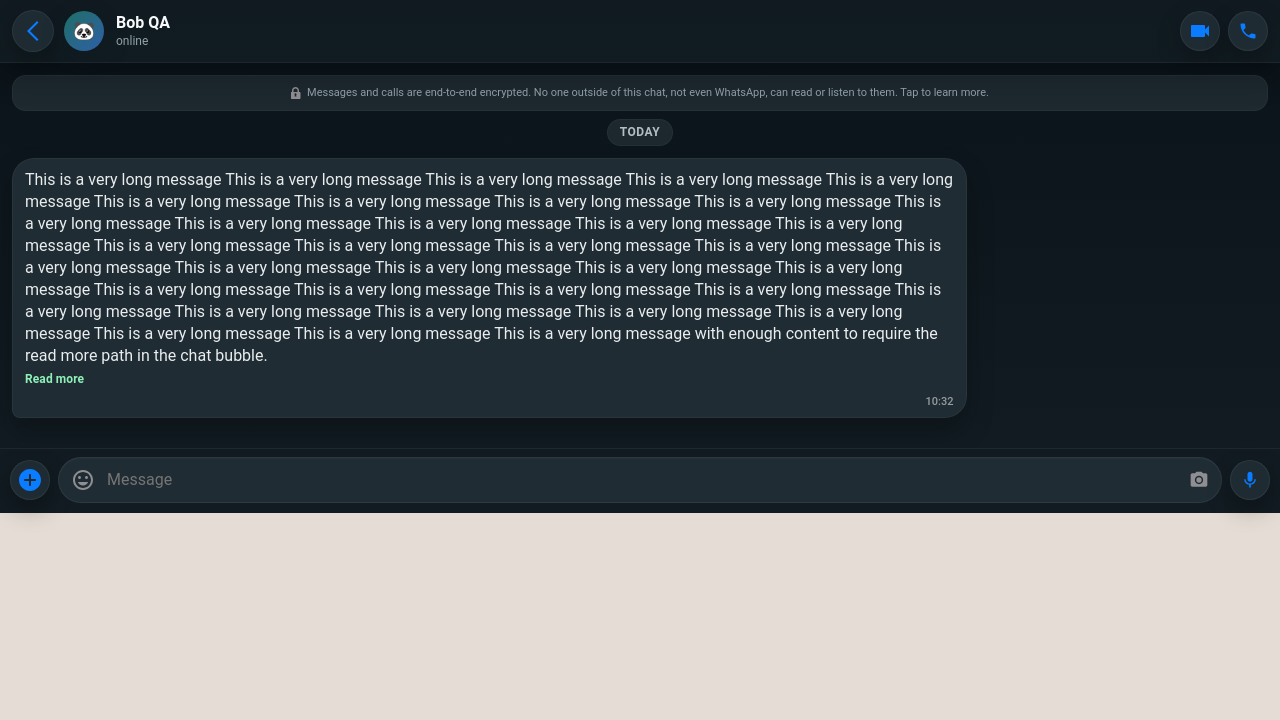
Scenario: ChatScreen › collapses long message bodies and expands them on demand
Click the button with test id "message-read-more-long-message-1": point(55, 379) [25,371,84,388]
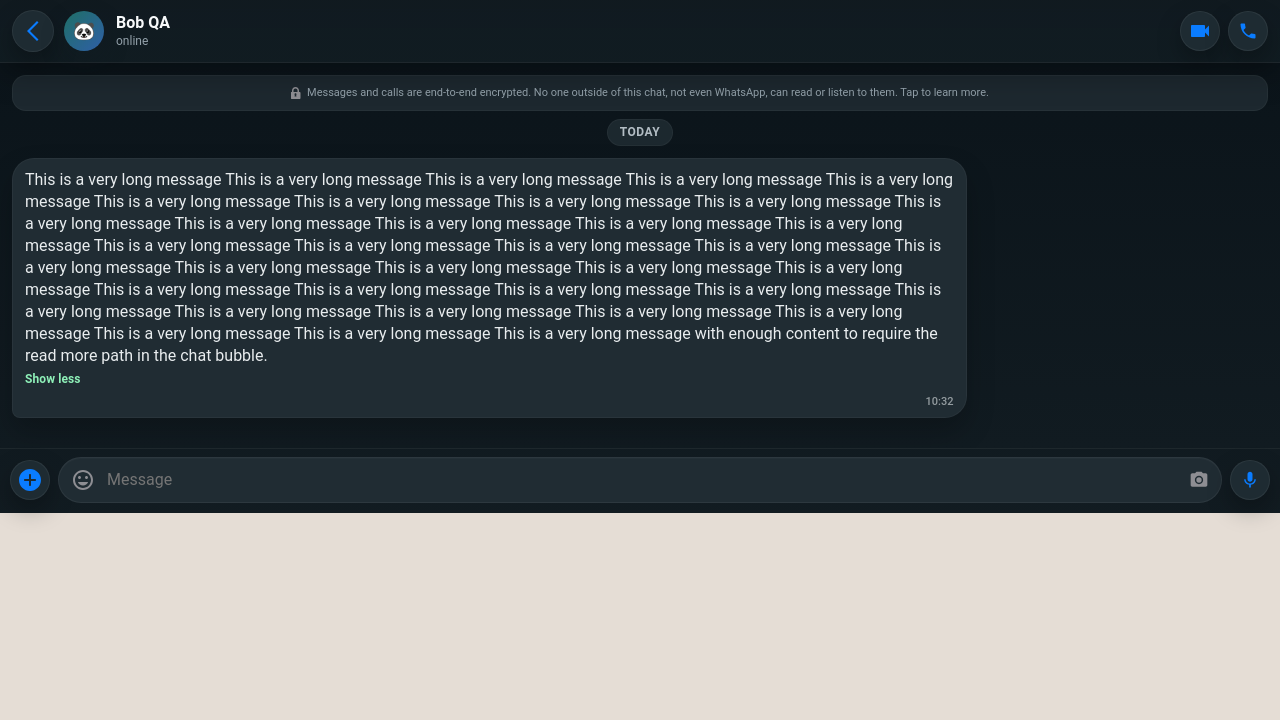
Now the button with test id "message-read-more-long-message-1" reads "Show less", box [25,371,81,388]
